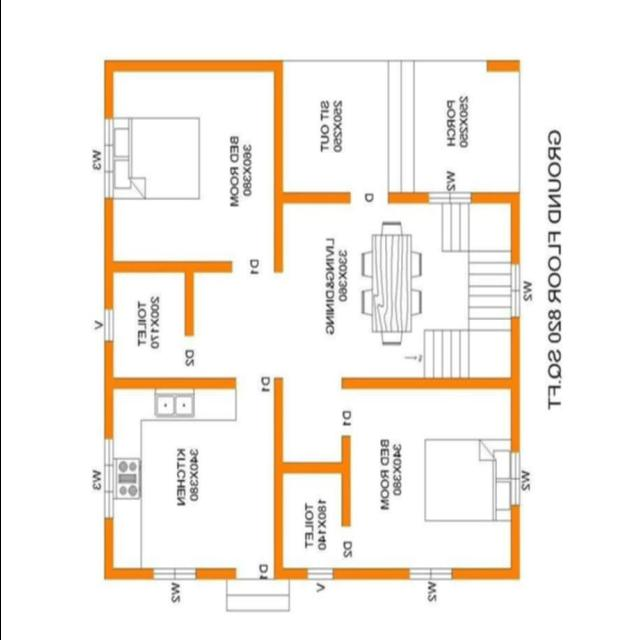column: (266, 52, 286, 86), (98, 558, 121, 586), (506, 53, 525, 81), (98, 53, 118, 79), (268, 562, 288, 588), (99, 253, 118, 280), (504, 187, 526, 210), (504, 562, 523, 588)
